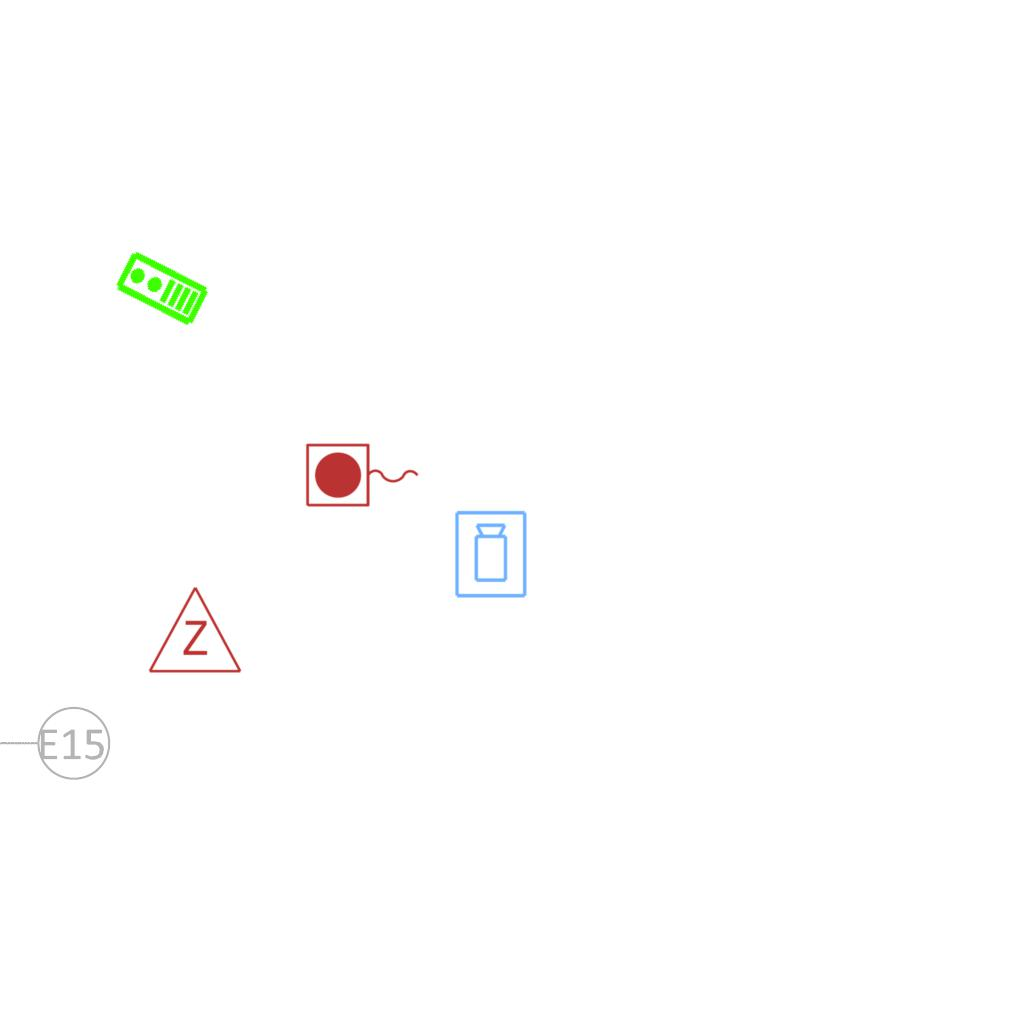Gegensprechanlage_mit_Video: (111, 248, 212, 330)
KFO_Kamera_mit_Festobjektiv: (453, 509, 530, 600)
Zimmersignalleuchte: (145, 580, 243, 680)
Zugtaster: (302, 440, 424, 512)
